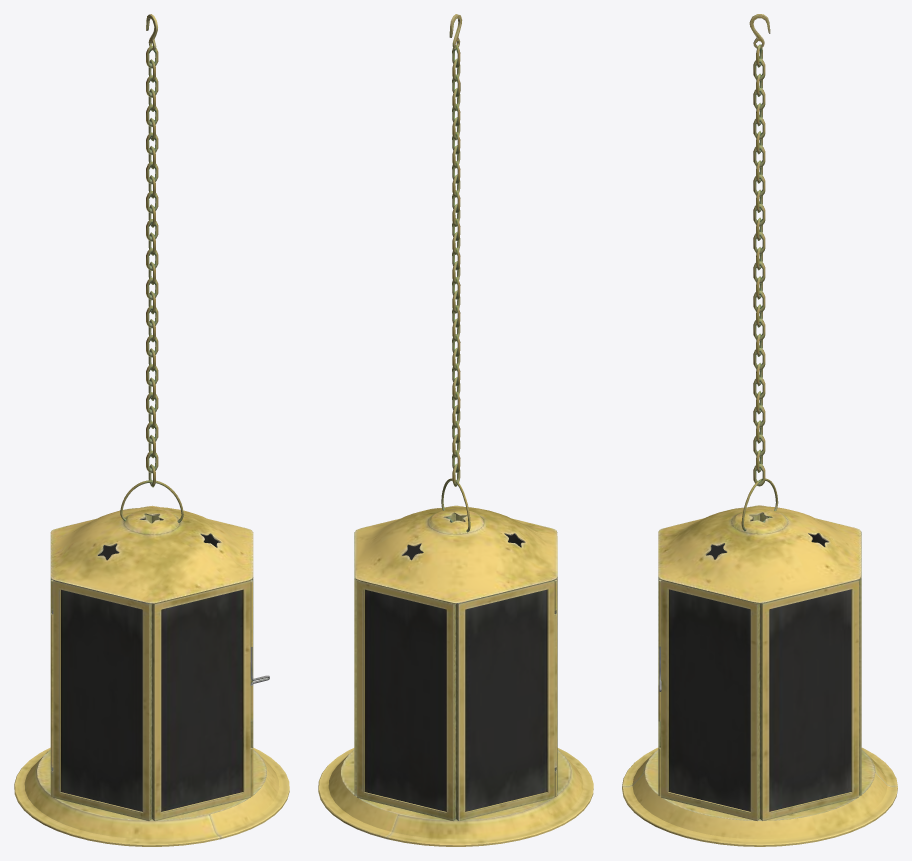
File: brass_diya_lantern.glb
3 renders of one model, left to right at view 1: azimuth 30°, elevation 25°; view 2: azimuth 150°, elevation 25°; view 3: azimuth 270°, elevation 25°, orthographic.
Visible parts, largest first — view 1: brass_diya_lantern, brass_diya_lantern_chain; view 2: brass_diya_lantern, brass_diya_lantern_chain; view 3: brass_diya_lantern, brass_diya_lantern_chain.
Boxes of the visible parts, x1=… form: brass_diya_lantern: x1=14, y1=505, x2=289, y2=846; brass_diya_lantern_chain: x1=146, y1=14, x2=158, y2=487; brass_diya_lantern: x1=318, y1=505, x2=593, y2=846; brass_diya_lantern_chain: x1=449, y1=14, x2=462, y2=486; brass_diya_lantern: x1=622, y1=505, x2=897, y2=846; brass_diya_lantern_chain: x1=749, y1=14, x2=770, y2=486.
Bounding box in the file's own units: 0.123 × 0.3807 × 0.123.
3 materials, 3 textured.
